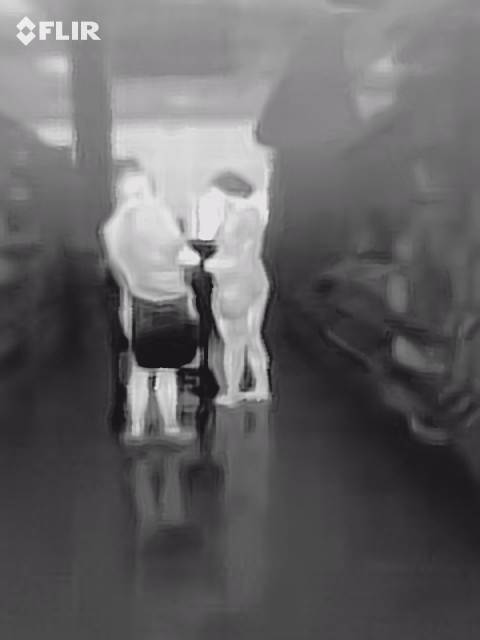head: (209, 175, 248, 214), (118, 175, 158, 209)
